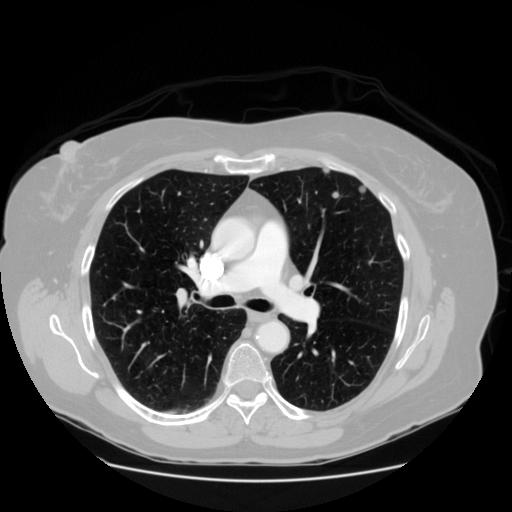nodule: (329, 188, 342, 201)
